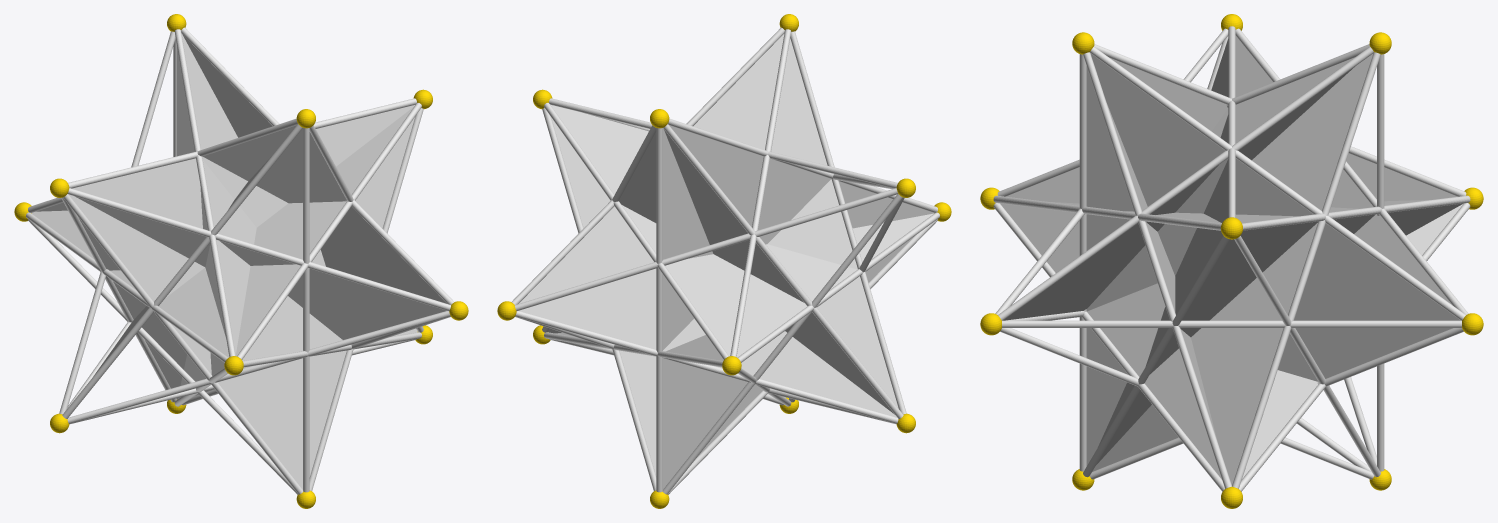
3 renders of one model, left to right at view 1: azimuth 30°, elevation 25°; view 2: azimuth 150°, elevation 25°; view 3: azimuth 270°, elevation 25°, orthographic. The views are drawn at different scales.
Visible parts, largest first — view 1: Triangulo_Neon_15, Triangulo_Neon_18, Triangulo_Neon_5, Triangulo_Neon_3, Triangulo_Neon_0, Triangulo_Neon_11, Cylinder.002, Cylinder.005, Cylinder.001, Cylinder.020, Cylinder.023, Cylinder.012 (+13 smaller); view 2: Triangulo_Neon_10, Triangulo_Neon_1, Triangulo_Neon_18, Triangulo_Neon_4, Triangulo_Neon_6, Cylinder.018, Cylinder.006, Cylinder.005, Cylinder.027, Cylinder.010, Cylinder.011, Cylinder.026 (+12 smaller); view 3: Triangulo_Neon_8, Triangulo_Neon_3, Triangulo_Neon_14, Triangulo_Neon_2, Triangulo_Neon_13, Triangulo_Neon_9, Triangulo_Neon_15, Cylinder.008, Cylinder.021, Cylinder.024, Cylinder.003, Cylinder.013 (+20 smaller).
Part boxes in pixels (bbox=[...]): Triangulo_Neon_15: bbox=[69, 105, 414, 489]; Triangulo_Neon_18: bbox=[32, 107, 413, 357]; Triangulo_Neon_5: bbox=[75, 196, 446, 399]; Triangulo_Neon_3: bbox=[181, 34, 417, 360]; Triangulo_Neon_0: bbox=[182, 34, 446, 303]; Triangulo_Neon_11: bbox=[36, 125, 416, 328]; Cylinder.002: bbox=[67, 188, 450, 310]; Cylinder.005: bbox=[62, 124, 302, 418]; Cylinder.001: bbox=[63, 194, 303, 494]; Cylinder.020: bbox=[67, 311, 450, 423]; Cylinder.023: bbox=[303, 128, 309, 492]; Cylinder.012: bbox=[174, 29, 235, 356]; Triangulo_Neon_10: bbox=[519, 34, 898, 417]; Triangulo_Neon_1: bbox=[663, 125, 933, 489]; Triangulo_Neon_18: bbox=[551, 105, 933, 357]; Triangulo_Neon_4: bbox=[548, 129, 894, 414]; Triangulo_Neon_6: bbox=[551, 118, 656, 475]; Cylinder.018: bbox=[515, 188, 898, 310]; Cylinder.006: bbox=[663, 124, 903, 418]; Cylinder.005: bbox=[790, 31, 906, 414]; Cylinder.027: bbox=[662, 194, 902, 494]; Cylinder.010: bbox=[515, 311, 898, 423]; Cylinder.011: bbox=[656, 128, 662, 492]; Cylinder.026: bbox=[730, 29, 791, 356]; Triangulo_Neon_8: bbox=[1086, 53, 1460, 471]; Triangulo_Neon_3: bbox=[1000, 53, 1373, 484]; Triangulo_Neon_14: bbox=[1096, 203, 1462, 464]; Triangulo_Neon_2: bbox=[1003, 67, 1354, 320]; Triangulo_Neon_13: bbox=[1235, 36, 1451, 304]; Triangulo_Neon_9: bbox=[1110, 58, 1456, 201]; Triangulo_Neon_15: bbox=[1098, 39, 1228, 446]; Cylinder.008: bbox=[1002, 320, 1461, 327]; Cylinder.021: bbox=[1232, 52, 1380, 488]; Cylinder.024: bbox=[1083, 52, 1231, 488]; Cylinder.003: bbox=[998, 47, 1373, 320]; Cylinder.013: bbox=[1090, 47, 1465, 320].
Size of the model in its own units: 6.77 by 6.77 by 6.77.
